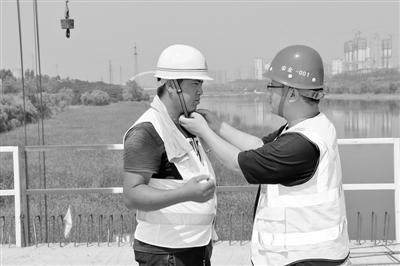helmet: (262, 45, 325, 92), (155, 45, 217, 82)
